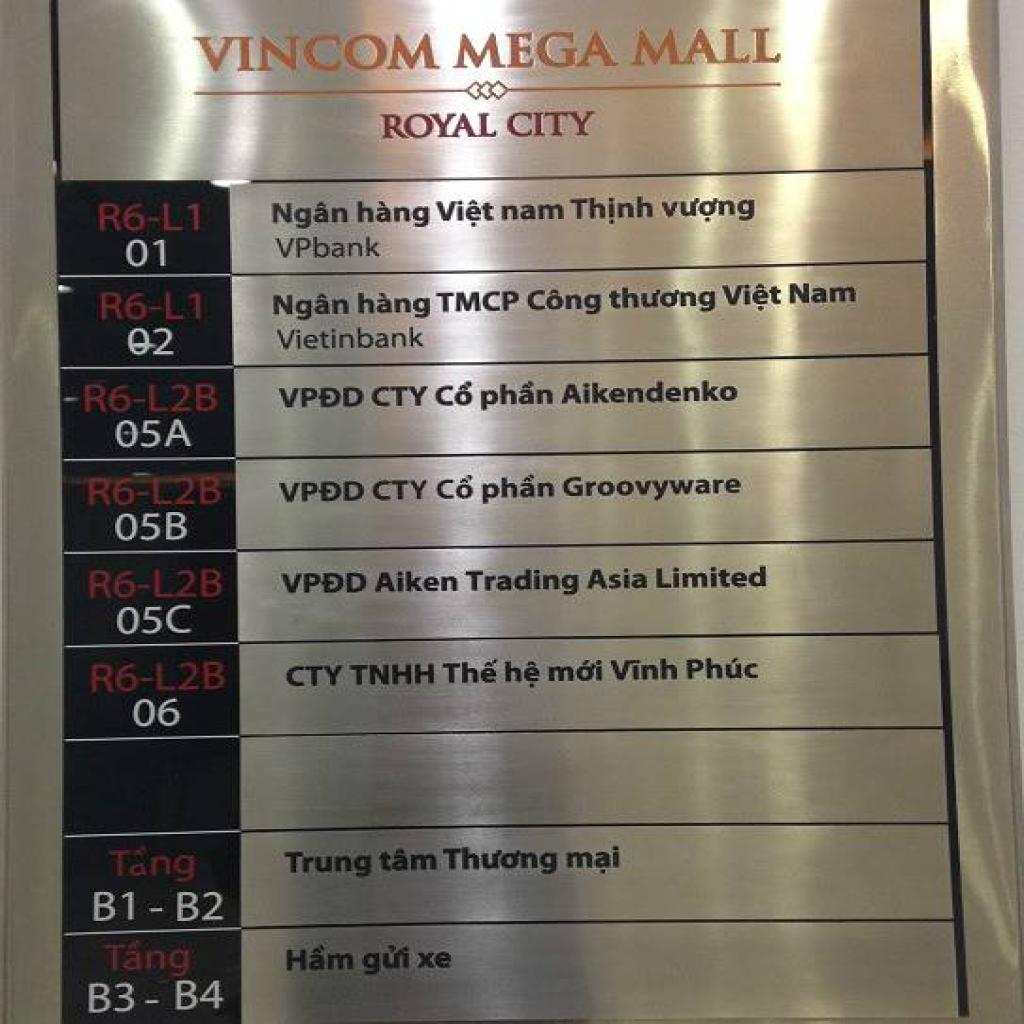text: (189, 29, 445, 76), (447, 27, 626, 74), (628, 22, 786, 71), (560, 470, 749, 504), (558, 377, 745, 407), (87, 658, 228, 696), (79, 380, 223, 417), (85, 565, 228, 601), (85, 473, 224, 509), (462, 563, 585, 599), (272, 325, 428, 353), (377, 110, 502, 144), (441, 844, 562, 878), (100, 940, 198, 981), (107, 845, 202, 887), (94, 200, 206, 235), (98, 288, 206, 324), (607, 284, 719, 318), (654, 562, 772, 591), (656, 195, 758, 227), (272, 233, 386, 261), (568, 193, 656, 229), (504, 108, 602, 140), (279, 848, 375, 880), (113, 602, 198, 638), (113, 417, 202, 451), (274, 477, 372, 507), (276, 567, 374, 597), (273, 382, 368, 412), (481, 470, 558, 507), (524, 286, 607, 320), (110, 509, 190, 544), (270, 198, 352, 232), (372, 566, 462, 596), (347, 660, 439, 689), (354, 196, 432, 230), (434, 288, 520, 316), (432, 195, 500, 230), (268, 292, 352, 320), (356, 290, 434, 320), (784, 277, 862, 307), (682, 655, 764, 683), (564, 840, 624, 878), (481, 382, 556, 412), (281, 944, 356, 974), (720, 280, 784, 314), (83, 979, 140, 1017), (87, 887, 141, 926), (358, 943, 415, 979), (170, 978, 226, 1014), (609, 657, 681, 684), (176, 889, 228, 926), (378, 845, 440, 876), (285, 660, 345, 692), (442, 657, 504, 687), (132, 696, 185, 731), (584, 565, 650, 593), (125, 325, 179, 359), (370, 382, 434, 410), (498, 200, 568, 224), (371, 477, 432, 504), (124, 236, 172, 270), (547, 657, 605, 684), (430, 380, 477, 409), (502, 659, 543, 689), (434, 474, 477, 502), (147, 902, 172, 916), (142, 995, 164, 1008)
